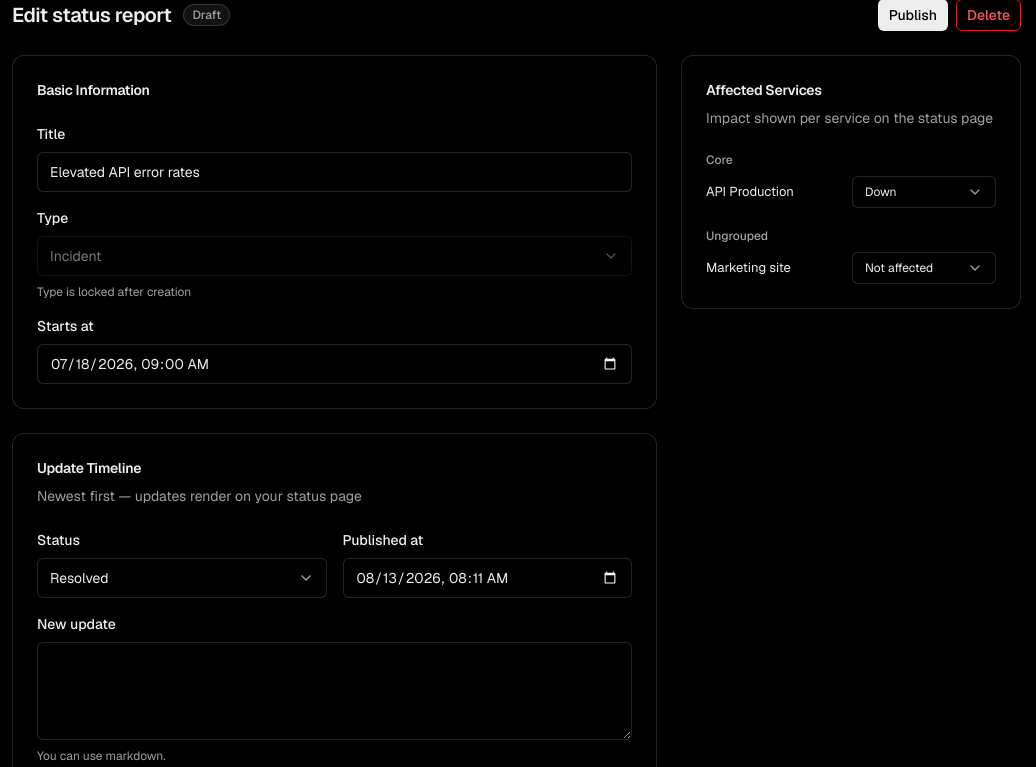
Test: ReportEditor unsaved-changes protection › disables Save Changes until basics change
Type "Retitled report" into the field labelled "Title" at (334, 172), box [37, 152, 632, 192]
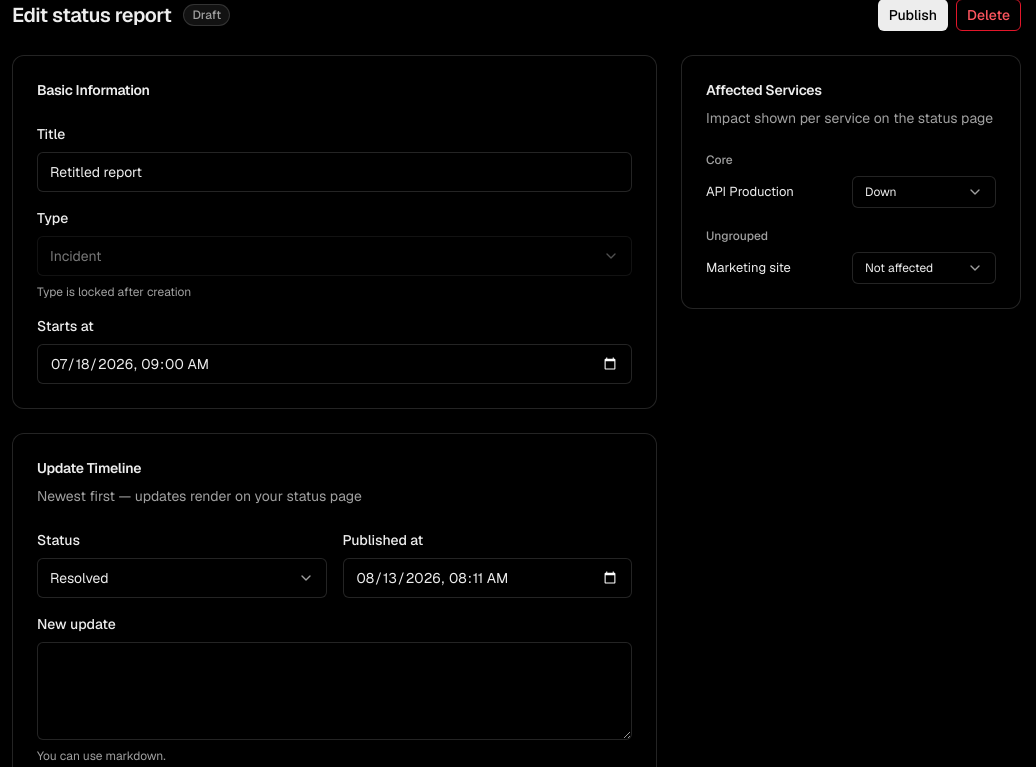
Replace the text in the field labelled "Title" with "Elevated API error rates" at (334, 172), box [37, 152, 632, 192]
(page scrolled)
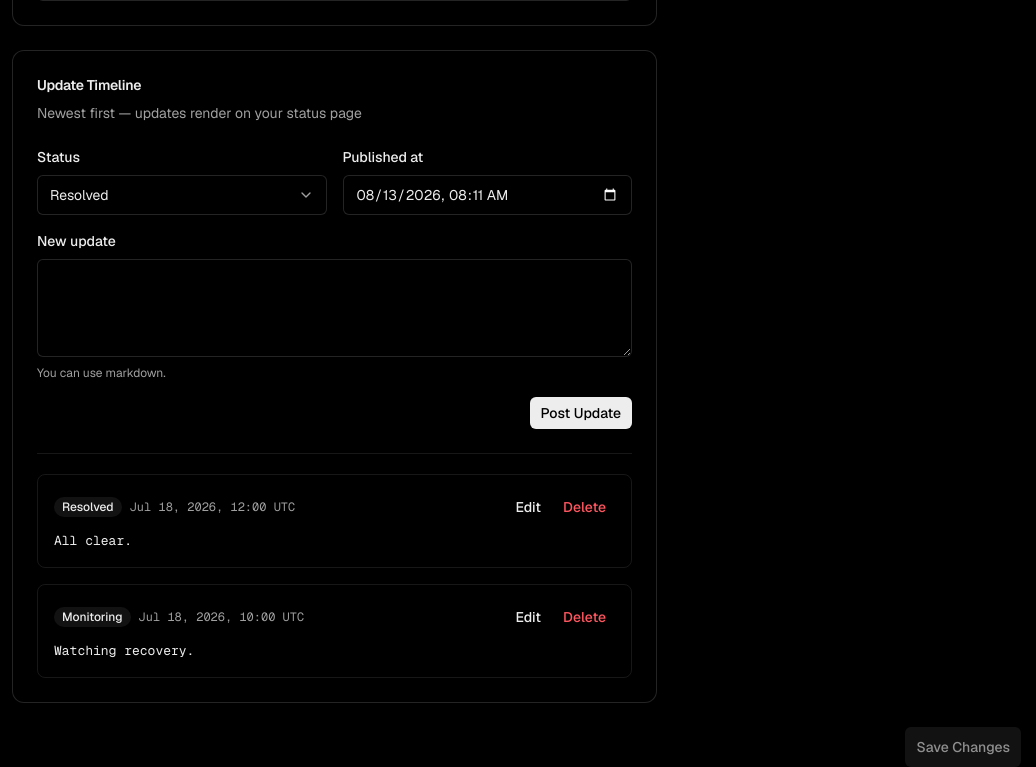
Check: the button "Save Changes" is disabled, box [905, 727, 1021, 766]
